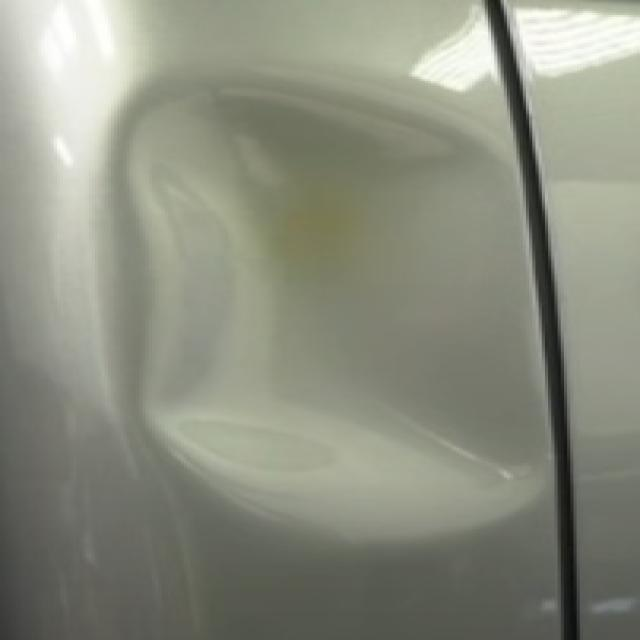dent: (105, 75, 552, 545)
